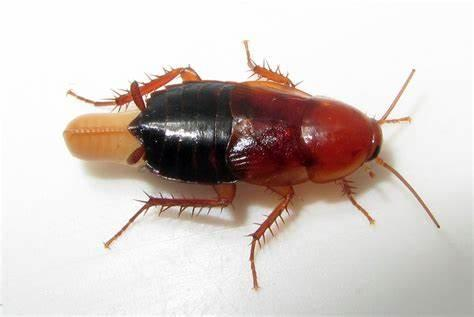cockroach: (136, 62, 385, 207)
